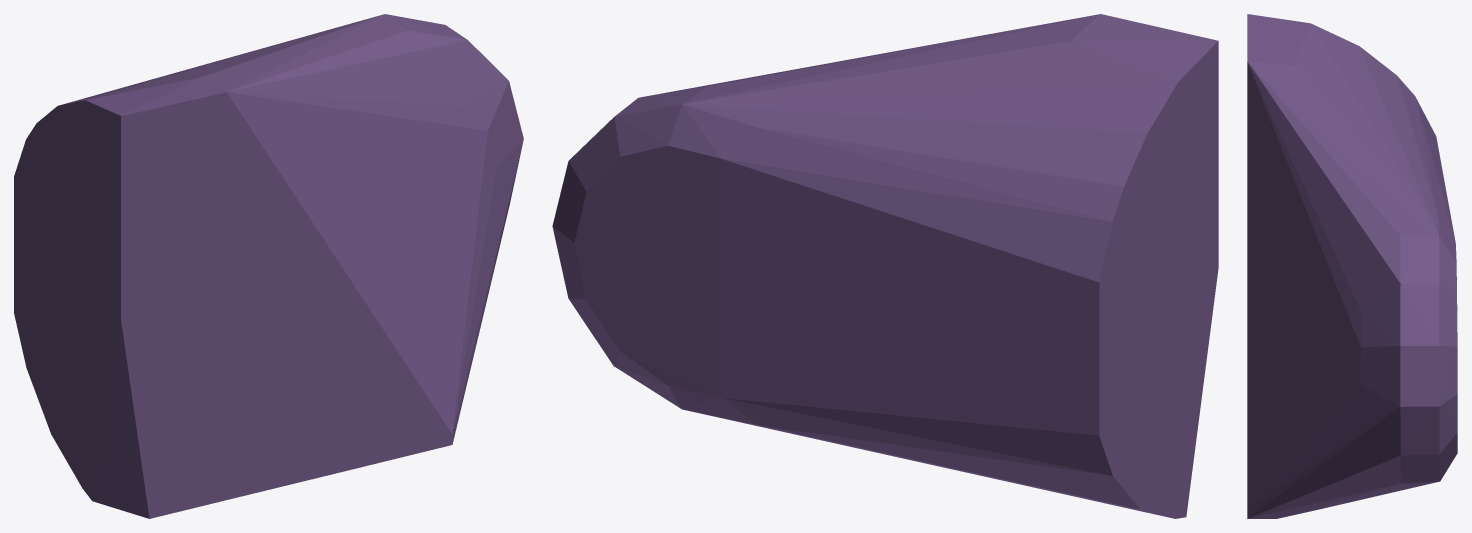
3 views of the same model, side by side, from view 1: azimuth 30°, elevation 25°; view 2: azimuth 150°, elevation 25°; view 3: azimuth 270°, elevation 25° (orthographic). The views are drawn at different scales.
Bounding box in the file's own units: 0.0202 × 0.0161 × 0.0085.
